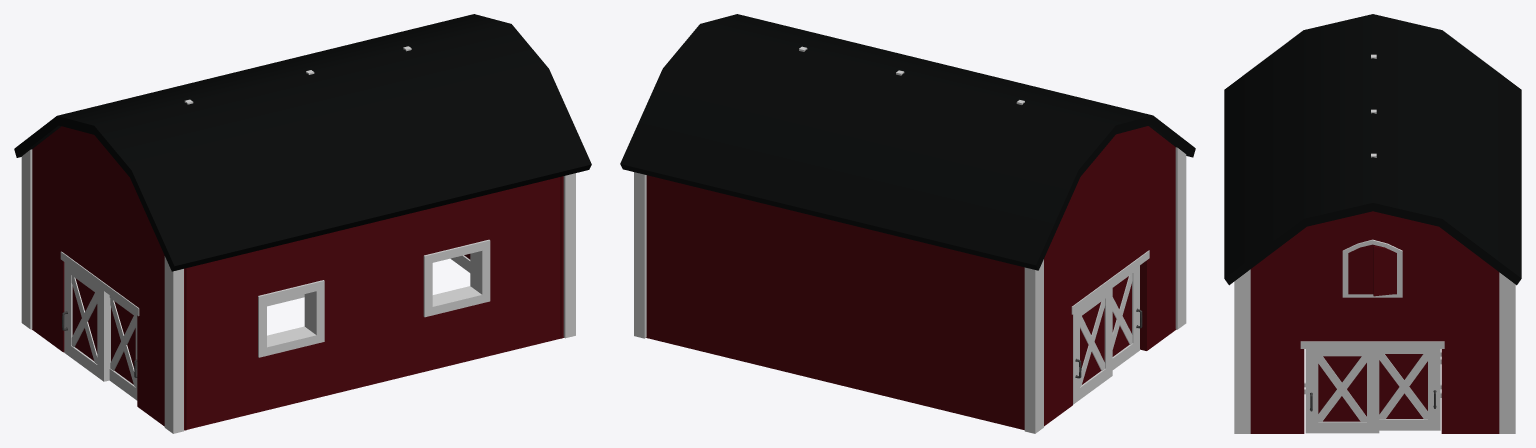
File: MSH_Establo.FBX
The picture shows the model from 3 angles, left to right: view 1: azimuth 30°, elevation 25°; view 2: azimuth 150°, elevation 25°; view 3: azimuth 270°, elevation 25°; orthographic projection. The views are drawn at different scales.
Parts seen in each view (by area): view 1: MSH_Establo, Door_1, Door_2; view 2: MSH_Establo, Door_1, Door_2; view 3: MSH_Establo, Door_4, Door_3.
Boxes of the visible parts, left/top/right/bottom form: MSH_Establo: left=14, top=14, right=591, bottom=433; Door_1: left=62, top=262, right=109, bottom=381; Door_2: left=109, top=295, right=137, bottom=400; MSH_Establo: left=620, top=14, right=1195, bottom=433; Door_1: left=1073, top=285, right=1112, bottom=404; Door_2: left=1112, top=265, right=1142, bottom=369; MSH_Establo: left=1224, top=14, right=1521, bottom=433; Door_4: left=1305, top=349, right=1379, bottom=433; Door_3: left=1379, top=349, right=1440, bottom=430.
Size of the model in its own units: 1560 by 917 by 1038.
